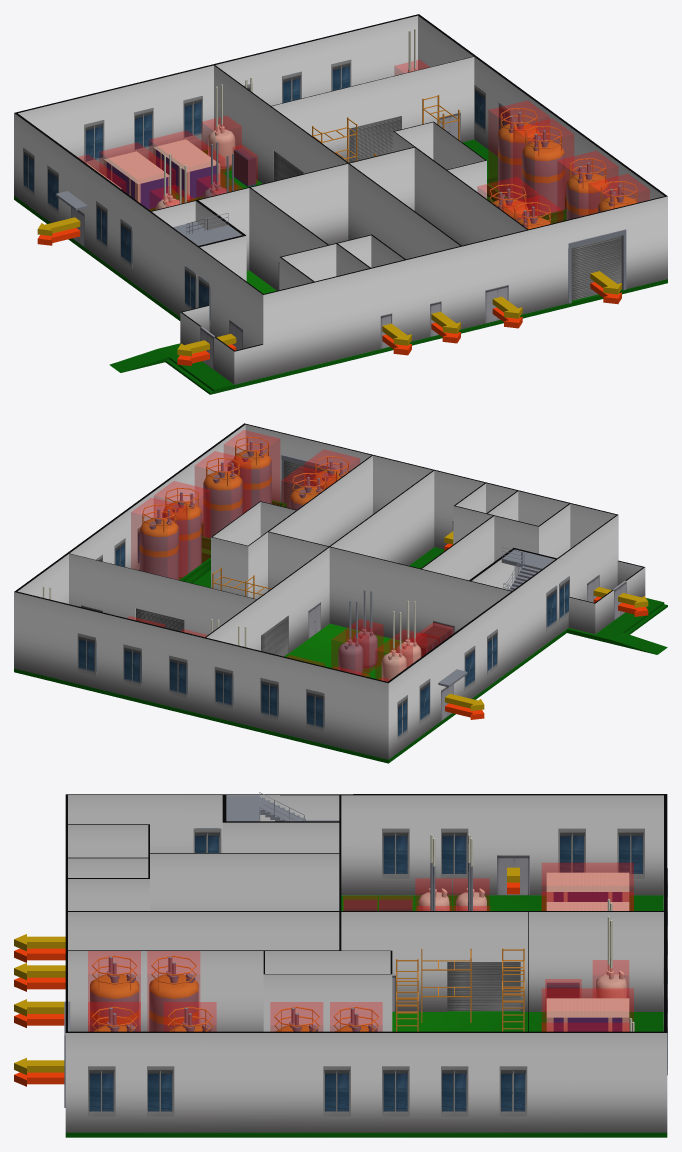
Rendered from soulbrain_T2-12 A-1F.glb.
3 renders of one model, top to bottom at view 1: azimuth 30°, elevation 25°; view 2: azimuth 150°, elevation 25°; view 3: azimuth 270°, elevation 25°, orthographic. The views are drawn at different scales.
Visible parts, largest first — view 1: T2-12 A-1F, Box2381, equipment-T2-12_A-1F-018, equipment-T2-12_A-1F-017, equipment-T2-12_A-1F-019, equipment-T2-12_A-1F-002, equipment-T2-12_A-1F-003, Box2371, Box2376, Box2375, equipment-T2-12_A-1F-020, equipment-T2-12_A-1F-022 (+8 smaller); view 2: T2-12 A-1F, Box2381, equipment-T2-12_A-1F-017, equipment-T2-12_A-1F-019, Box2371, equipment-T2-12_A-1F-018, equipment-T2-12_A-1F-020, equipment-T2-12_A-1F-022, equipment-T2-12_A-1F-006, equipment-T2-12_A-1F-021, equipment-T2-12_A-1F-009, equipment-T2-12_A-1F-007 (+2 smaller); view 3: T2-12 A-1F, Box2381, equipment-T2-12_A-1F-014, equipment-T2-12_A-1F-022, equipment-T2-12_A-1F-001, equipment-T2-12_A-1F-021, Box2371, Box2378, Box2374, Rectangle1165, equipment-T2-12_A-1F-002, equipment-T2-12_A-1F-020 (+19 smaller).
Boxes of the visible parts, left/top/right/bottom form: T2-12 A-1F: left=14, top=14, right=667, bottom=394; Box2381: left=489, top=108, right=637, bottom=229; equipment-T2-12_A-1F-018: left=513, top=118, right=573, bottom=215; equipment-T2-12_A-1F-017: left=488, top=100, right=549, bottom=197; equipment-T2-12_A-1F-019: left=557, top=151, right=618, bottom=221; equipment-T2-12_A-1F-002: left=99, top=142, right=175, bottom=210; equipment-T2-12_A-1F-003: left=149, top=130, right=224, bottom=200; Box2371: left=156, top=28, right=415, bottom=209; Box2376: left=153, top=139, right=220, bottom=199; Box2375: left=103, top=151, right=169, bottom=209; equipment-T2-12_A-1F-020: left=588, top=174, right=649, bottom=214; equipment-T2-12_A-1F-022: left=477, top=177, right=538, bottom=219; T2-12 A-1F: left=14, top=423, right=667, bottom=763; Box2381: left=139, top=436, right=348, bottom=579; equipment-T2-12_A-1F-017: left=131, top=498, right=187, bottom=579; equipment-T2-12_A-1F-019: left=195, top=451, right=250, bottom=537; Box2371: left=42, top=586, right=421, bottom=681; equipment-T2-12_A-1F-018: left=154, top=481, right=210, bottom=577; equipment-T2-12_A-1F-020: left=224, top=430, right=279, bottom=512; equipment-T2-12_A-1F-022: left=281, top=466, right=337, bottom=509; equipment-T2-12_A-1F-006: left=331, top=629, right=368, bottom=675; equipment-T2-12_A-1F-021: left=304, top=449, right=359, bottom=488; equipment-T2-12_A-1F-009: left=375, top=640, right=412, bottom=681; equipment-T2-12_A-1F-007: left=346, top=619, right=383, bottom=672; T2-12 A-1F: left=65, top=792, right=667, bottom=1137; Box2381: left=90, top=955, right=378, bottom=1031; equipment-T2-12_A-1F-014: left=542, top=988, right=633, bottom=1030; equipment-T2-12_A-1F-022: left=147, top=951, right=199, bottom=1031; equipment-T2-12_A-1F-001: left=542, top=863, right=633, bottom=910; equipment-T2-12_A-1F-021: left=88, top=951, right=140, bottom=1030; Box2371: left=418, top=834, right=634, bottom=1031; Box2378: left=546, top=998, right=629, bottom=1031; Box2374: left=546, top=872, right=629, bottom=901; Rectangle1165: left=396, top=948, right=524, bottom=1031; equipment-T2-12_A-1F-002: left=542, top=892, right=633, bottom=910; equipment-T2-12_A-1F-020: left=88, top=1002, right=140, bottom=1031.
Size of the model in its own units: 38.19 by 7.2 by 35.59.
Materials: 19 (13 with a texture image).
